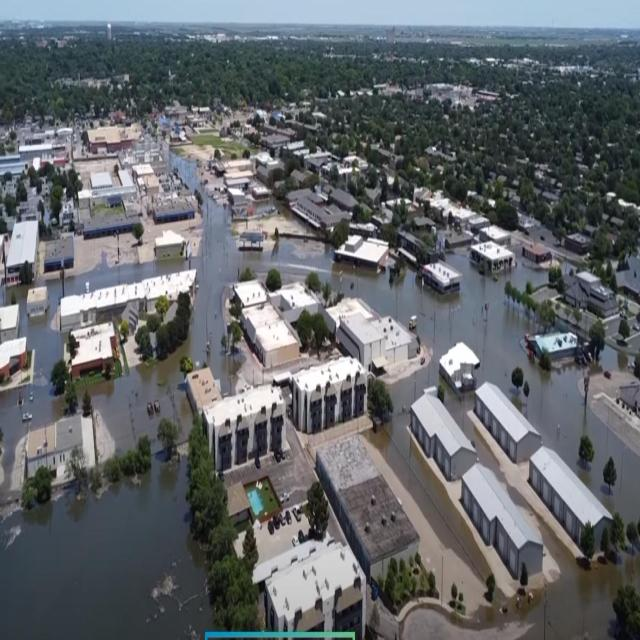flood: (359, 253, 640, 523), (0, 457, 212, 638), (180, 198, 358, 391), (378, 362, 442, 533), (546, 535, 640, 637), (64, 252, 188, 294), (446, 388, 494, 464), (167, 148, 200, 191), (39, 270, 61, 294)
house: (315, 428, 422, 595), (262, 538, 366, 640), (459, 466, 545, 580), (530, 448, 616, 559), (204, 383, 294, 475), (293, 352, 371, 439), (411, 391, 479, 484), (20, 411, 100, 489), (339, 302, 422, 374), (475, 381, 543, 465), (240, 303, 302, 374), (564, 262, 614, 321), (334, 228, 391, 278), (529, 325, 582, 375), (68, 326, 124, 372), (290, 182, 336, 238), (438, 339, 479, 401), (5, 218, 39, 290), (472, 232, 515, 278), (82, 211, 140, 242), (83, 126, 136, 158), (0, 335, 30, 387), (43, 234, 75, 274), (153, 226, 185, 263), (152, 199, 196, 223), (522, 236, 552, 271), (23, 285, 51, 322), (234, 230, 265, 255), (0, 305, 19, 340)
